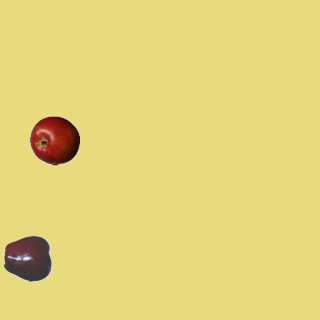Apple Braeburn: (29, 115, 79, 165)
Apple Red Delicious: (3, 233, 53, 283)
